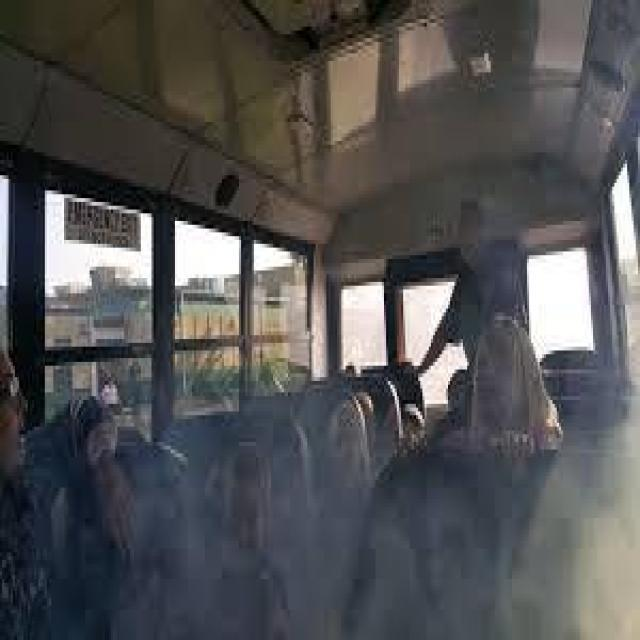Smoke: (308, 441, 640, 640), (115, 411, 290, 640)
